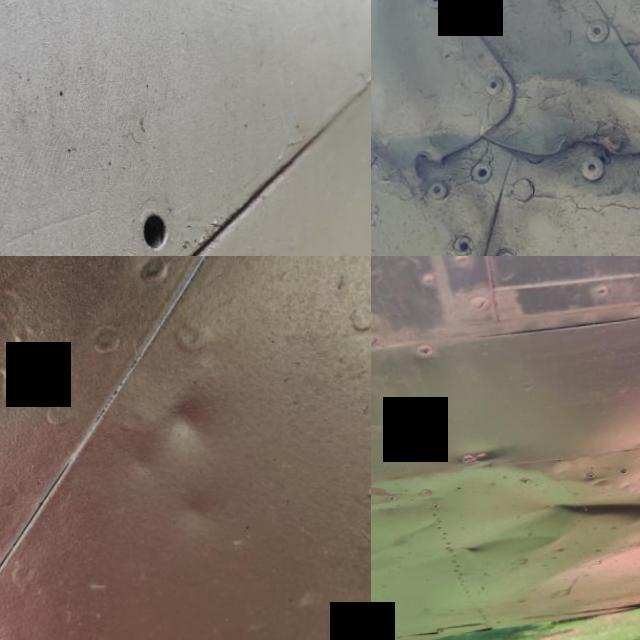Crack: (532, 126, 628, 170)
Dent: (100, 374, 226, 508), (509, 425, 640, 551)
Missing_Fastener: (103, 182, 206, 256)
